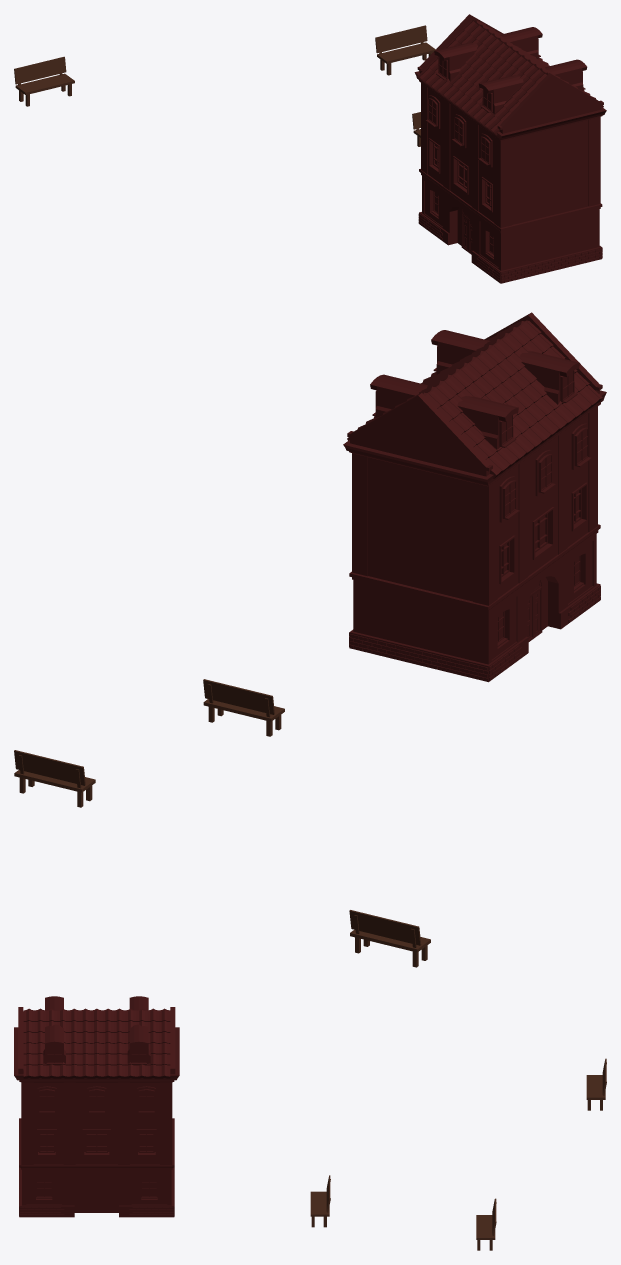
The model's file is DemoScene.fbx.
3 renders of one model, top to bottom at view 1: azimuth 30°, elevation 25°; view 2: azimuth 150°, elevation 25°; view 3: azimuth 270°, elevation 25°, orthographic. The views are drawn at different scales.
Parts seen in each view (by area): view 1: Building1_Small, bench_2_v_2(Clone) (×2); view 2: Building1_Small, bench_2_v_2(Clone) (×3); view 3: Building1_Small, bench_2_v_2(Clone) (×3).
Boxes of the visible parts, x1,y1,x2,y2 form: Building1_Small: [414, 14, 606, 283]; bench_2_v_2(Clone) (×2): [14, 25, 435, 106]; Building1_Small: [343, 312, 606, 682]; bench_2_v_2(Clone) (×3): [14, 679, 430, 967]; Building1_Small: [14, 996, 179, 1217]; bench_2_v_2(Clone) (×3): [310, 1058, 606, 1250].
Size of what is drawn, in the model's own units: 7 by 3.73 by 10.74.
